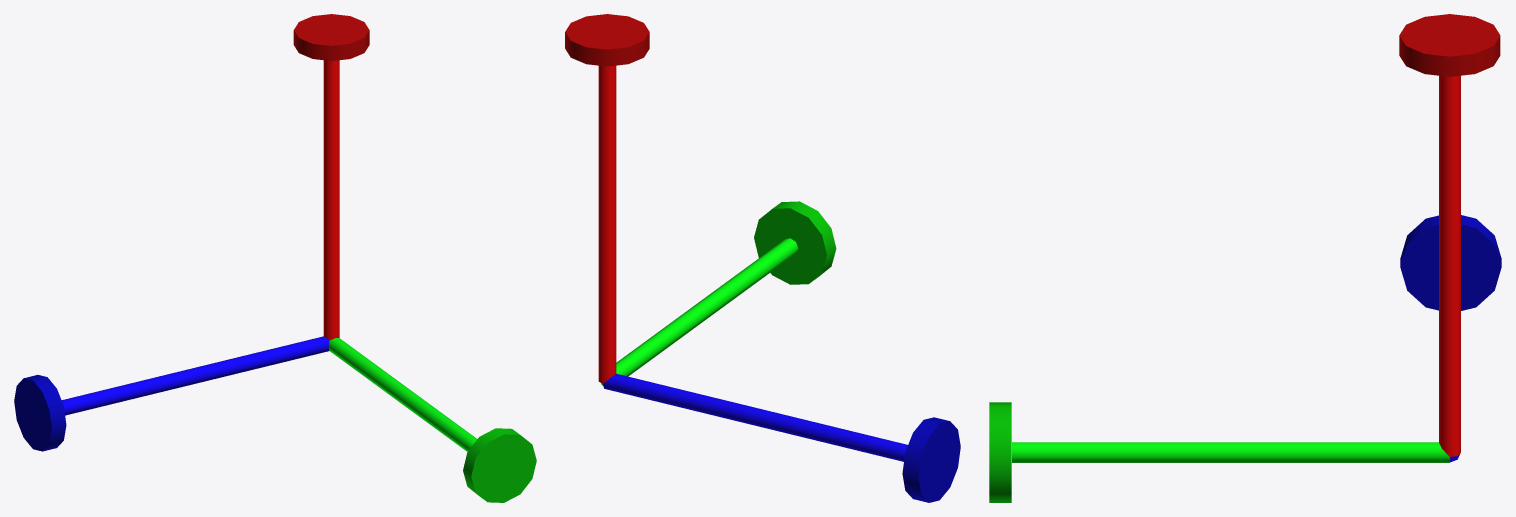
The model's file is GizmoAxisRotate.fbx.
The picture shows the model from 3 angles, left to right: view 1: azimuth 30°, elevation 25°; view 2: azimuth 150°, elevation 25°; view 3: azimuth 270°, elevation 25°; orthographic projection. The views are drawn at different scales.
Visible parts, largest first — view 1: GizmoScale; view 2: GizmoScale; view 3: GizmoScale.
Part boxes in pixels (x1,y1,x2,y2): GizmoScale: (14,14,536,502); GizmoScale: (565,14,960,502); GizmoScale: (989,14,1501,502).
Bounding box in the file's own units: 4.57 × 4.59 × 4.58.
